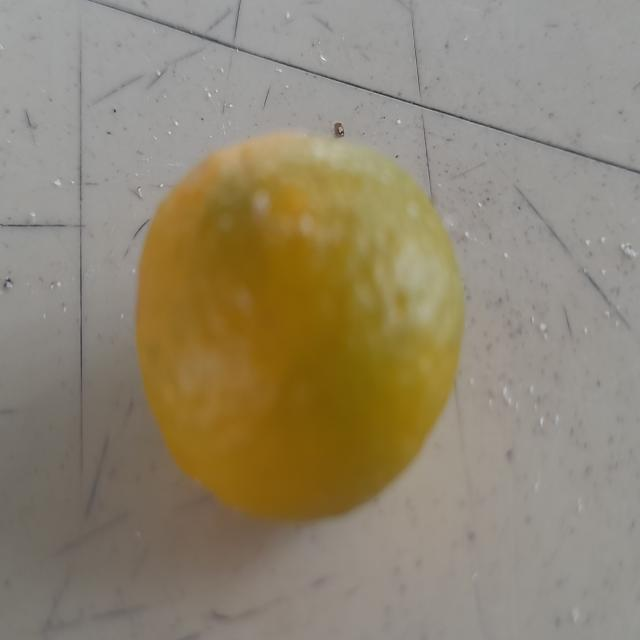greening: (142, 122, 469, 520)
